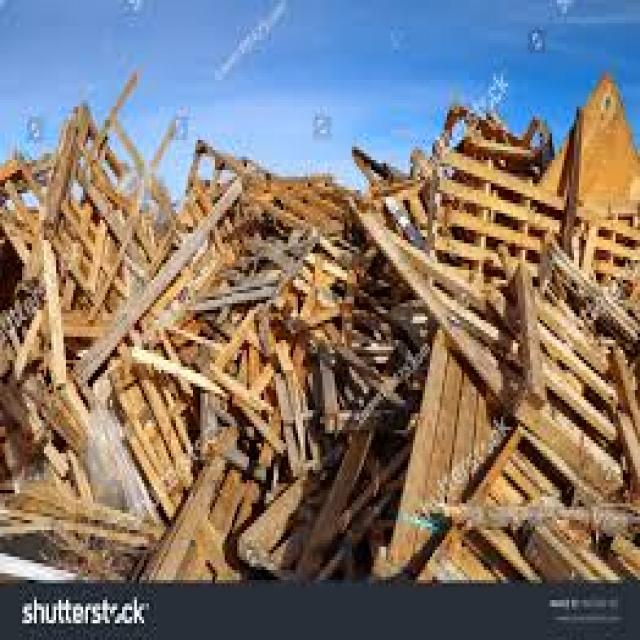green waste: (0, 70, 637, 573)
